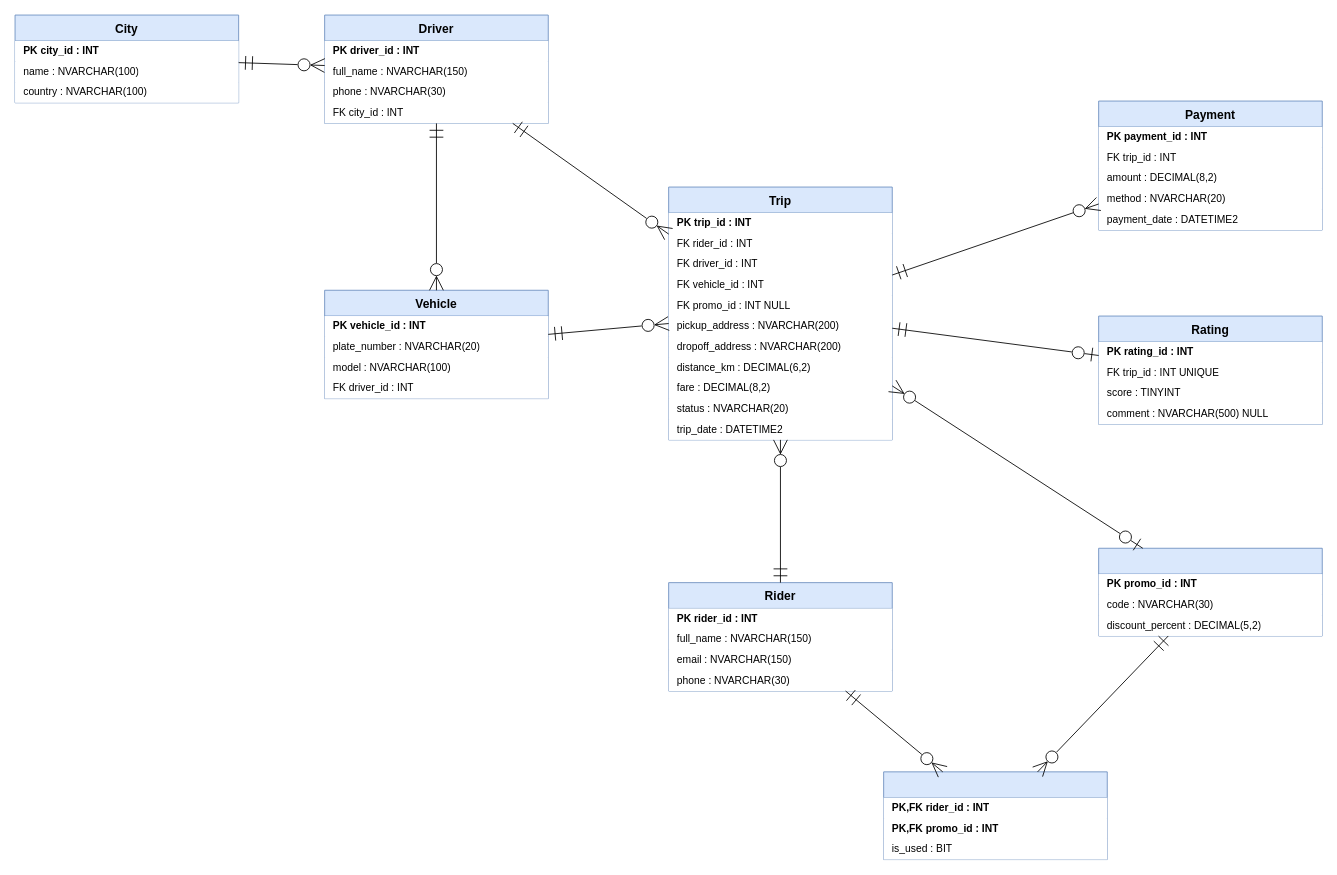
Image size: 1337x875. Some labels were removed from this diagram. The box of each missing label's shape, as (x1, y1, x2, y2) in pixels:
PromoCode: (1098, 547, 1322, 636)
RiderPromo: (883, 771, 1107, 860)
